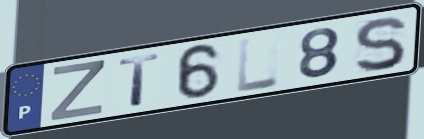6: (175, 41, 224, 103)
8: (298, 27, 342, 80)
L: (236, 34, 281, 95)
S: (351, 14, 408, 75)
T: (117, 51, 163, 109)
Z: (47, 58, 108, 124)
